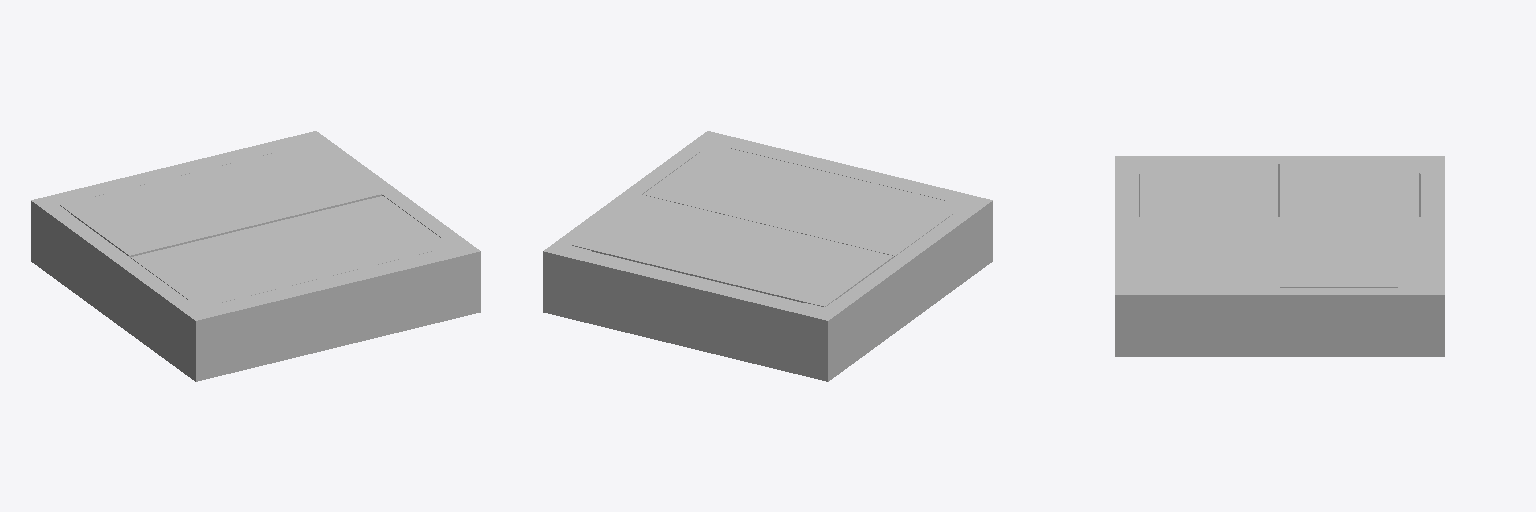
Rendered from cubedoor.obj.
3 views of the same model, side by side, from view 1: azimuth 30°, elevation 25°; view 2: azimuth 150°, elevation 25°; view 3: azimuth 270°, elevation 25° (orthographic).
Visible parts, largest first — view 1: pCube4, pCube5, pCube6; view 2: pCube4, pCube5, pCube6; view 3: pCube4, pCube5, pCube6.
Boxes of the visible parts, x1=… form: pCube4: x1=31, y1=131, x2=480, y2=381; pCube5: x1=60, y1=144, x2=381, y2=257; pCube6: x1=131, y1=196, x2=440, y2=302; pCube4: x1=543, y1=131, x2=992, y2=381; pCube5: x1=572, y1=194, x2=893, y2=306; pCube6: x1=643, y1=149, x2=952, y2=256; pCube4: x1=1115, y1=156, x2=1444, y2=356; pCube5: x1=1280, y1=164, x2=1418, y2=287; pCube6: x1=1140, y1=164, x2=1277, y2=287.
Bounding box in the file's own units: 1.24 × 0.2569 × 1.24.